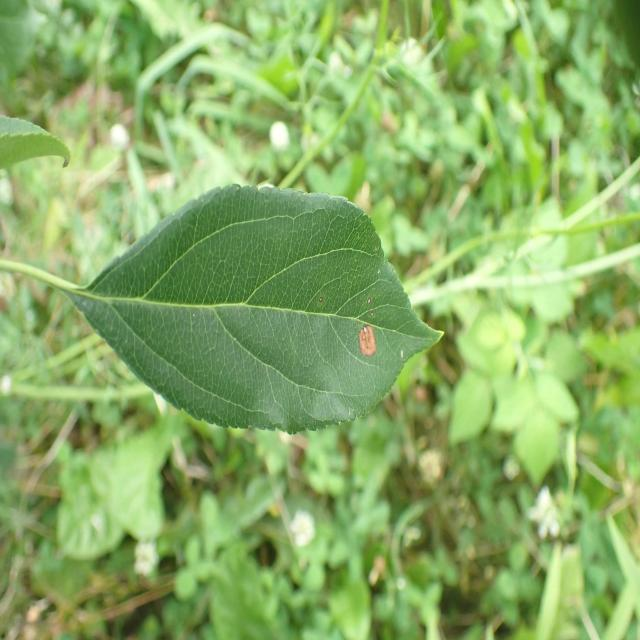Black Rot: (345, 315, 391, 375)
